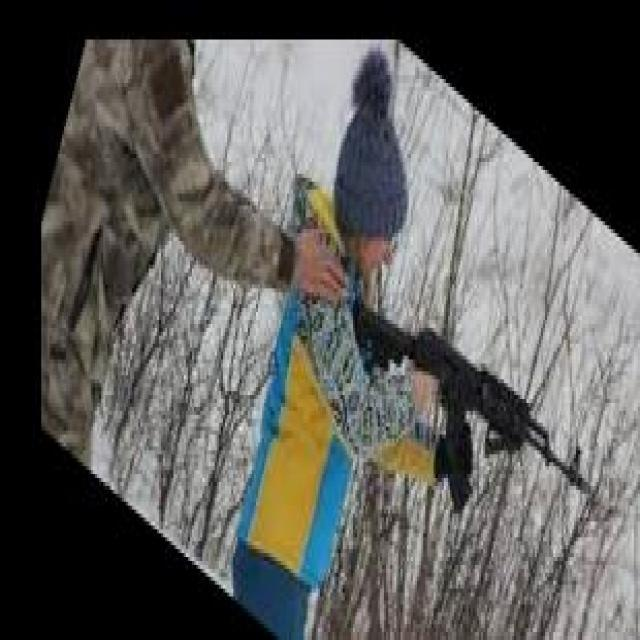weapon: (350, 303, 593, 519)
